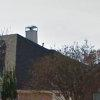Chimney: (22, 21, 42, 44)
